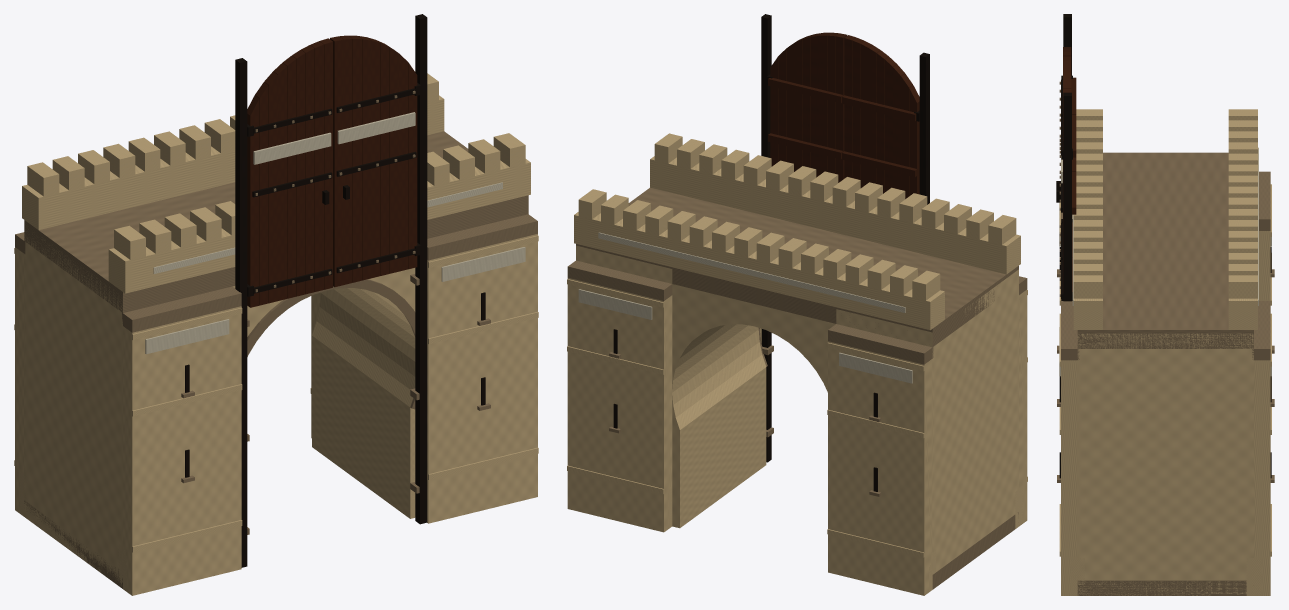
File: Berber_StoneGate_Age3_Open.fbx
The picture shows the model from 3 angles, left to right: view 1: azimuth 30°, elevation 25°; view 2: azimuth 150°, elevation 25°; view 3: azimuth 270°, elevation 25°; orthographic projection. The views are drawn at different scales.
Visible parts, largest first — view 1: left_projecting_tower_face, left_tower_pier, right_projecting_tower_face, continuous_horseshoe_gateway, continuous_rampart_deck, walkway_parapet.001, walkway_parapet, right_gateway_jamb, portcullis_guide_track.001, portcullis_guide_track, left_tower_ledge, right_door_plank_8 (+46 smaller); view 2: right_projecting_tower_face.001, left_tower_pier, left_projecting_tower_face.001, continuous_horseshoe_gateway, continuous_rampart_deck, walkway_parapet, walkway_parapet.001, portcullis_guide_track.001, parapet_owner_band.001, left_tower_ledge.001, right_tower_ledge.001, left_projecting_tower_face (+66 smaller); view 3: right_tower_pier, continuous_rampart_deck, right_projecting_tower_face.001, right_projecting_tower_face, right_rubble_plinth, portcullis_guide_track.001, walkway_parapet, walkway_parapet.001, right_tower_ledge.001, right_tower_ledge, left_projecting_tower_face.001, crenellation.015 (+35 smaller).
Part boxes in pixels (<box>): left_projecting_tower_face: <box>123,306,241,595</box>; left_tower_pier: <box>24,229,122,586</box>; right_projecting_tower_face: <box>427,234,537,523</box>; continuous_horseshoe_gateway: <box>232,268,415,518</box>; continuous_rampart_deck: <box>24,131,528,312</box>; walkway_parapet.001: <box>22,95,444,230</box>; walkway_parapet: <box>108,159,530,293</box>; right_gateway_jamb: <box>312,395,415,518</box>; portcullis_guide_track.001: <box>415,14,427,524</box>; portcullis_guide_track: <box>235,58,247,567</box>; left_tower_ledge: <box>122,286,241,332</box>; right_door_plank_8: <box>330,36,343,287</box>; right_projecting_tower_face.001: <box>567,278,672,532</box>; left_tower_pier: <box>836,269,1018,571</box>; left_projecting_tower_face.001: <box>828,341,932,595</box>; continuous_horseshoe_gateway: <box>672,284,835,528</box>; continuous_rampart_deck: <box>576,187,1018,346</box>; walkway_parapet: <box>650,156,1020,274</box>; walkway_parapet.001: <box>574,212,944,330</box>; portcullis_guide_track.001: <box>761,14,771,462</box>; parapet_owner_band.001: <box>598,232,905,312</box>; left_tower_ledge.001: <box>828,324,933,364</box>; right_tower_ledge.001: <box>567,260,672,300</box>; left_projecting_tower_face: <box>1019,289,1027,523</box>; right_tower_pier: <box>1077,333,1253,595</box>; continuous_rampart_deck: <box>1077,152,1253,348</box>; right_projecting_tower_face.001: <box>1254,360,1270,595</box>; right_projecting_tower_face: <box>1061,360,1077,595</box>; right_rubble_plinth: <box>1077,580,1246,595</box>; portcullis_guide_track.001: <box>1063,92,1071,301</box>; walkway_parapet: <box>1073,298,1102,329</box>; walkway_parapet.001: <box>1228,298,1257,329</box>; right_tower_ledge.001: <box>1252,301,1270,360</box>; right_tower_ledge: <box>1061,301,1079,360</box>; left_projecting_tower_face.001: <box>1259,231,1270,300</box>; crenellation.015: <box>1073,275,1102,298</box>.
Bounding box in the file's own units: 1000 × 1190 × 520.
Materials: 5 (5 with a texture image).
